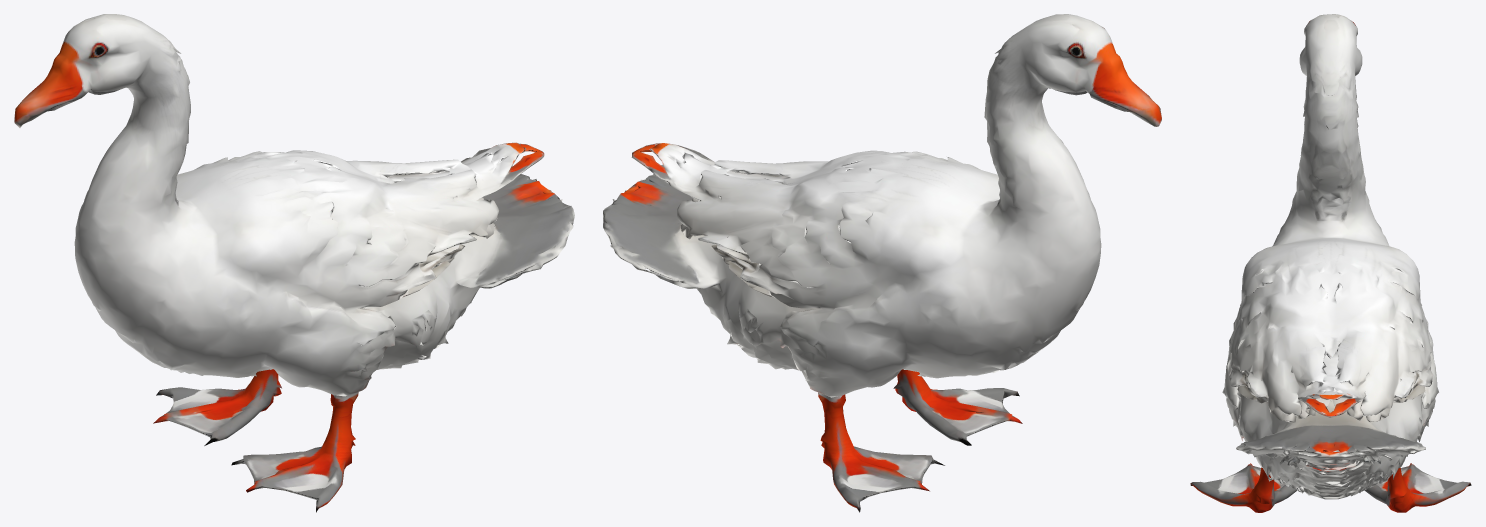
File: goose_A_h25.glb
3 views of the same model, side by side, from view 1: azimuth 30°, elevation 25°; view 2: azimuth 150°, elevation 25°; view 3: azimuth 270°, elevation 25° (orthographic). The views are drawn at different scales.
Parts seen in each view (by area): view 1: tripo_node_aab9c2d5-a941-4a5e-9d65-d05466eef35d; view 2: tripo_node_aab9c2d5-a941-4a5e-9d65-d05466eef35d; view 3: tripo_node_aab9c2d5-a941-4a5e-9d65-d05466eef35d.
Boxes of the visible parts, x1,y1,x2,y2 form: tripo_node_aab9c2d5-a941-4a5e-9d65-d05466eef35d: [14, 14, 574, 512]; tripo_node_aab9c2d5-a941-4a5e-9d65-d05466eef35d: [603, 14, 1161, 512]; tripo_node_aab9c2d5-a941-4a5e-9d65-d05466eef35d: [1190, 14, 1471, 512].
Size of the model in its own units: 1 by 0.8393 by 0.5186.
Materials: 1 (1 with a texture image).
